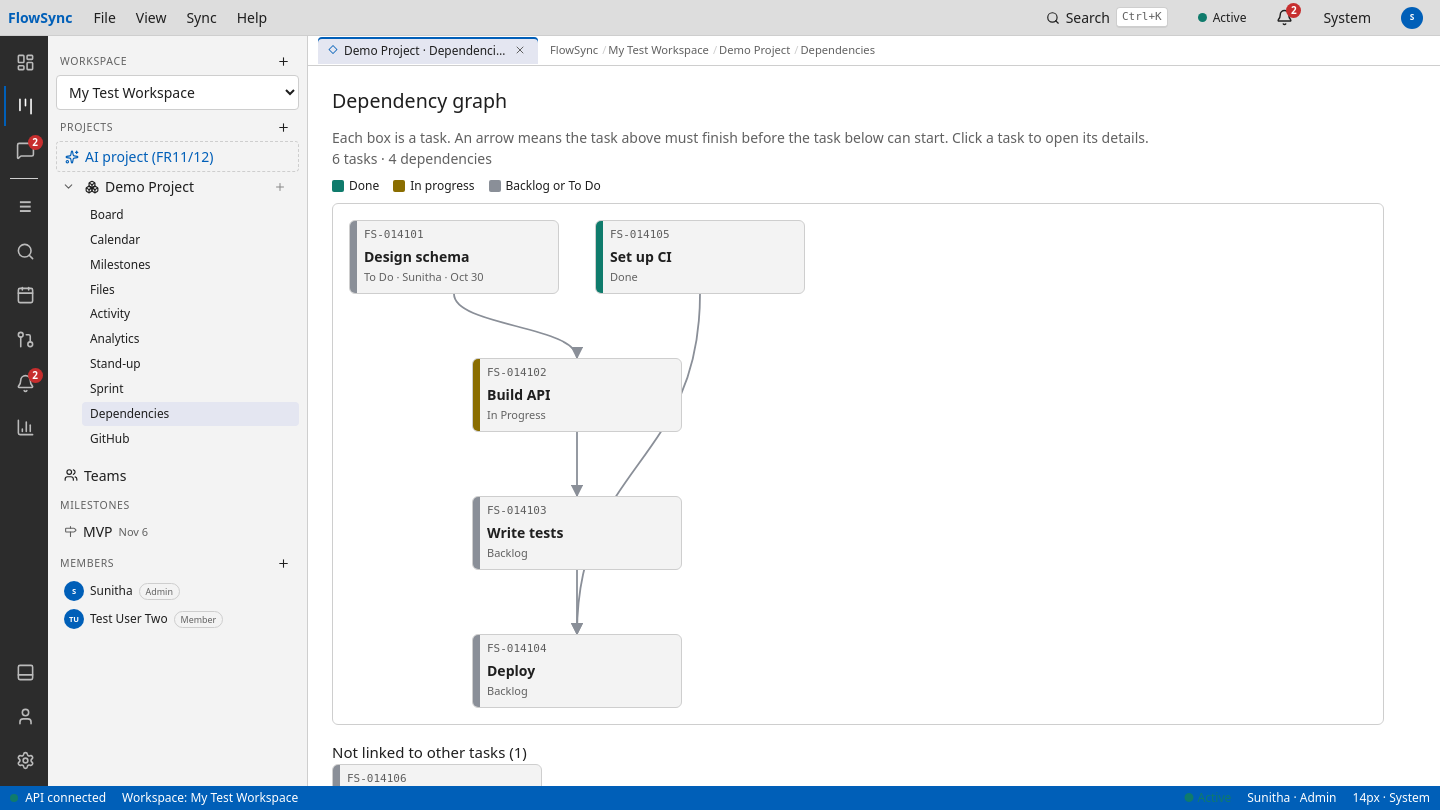
Test: the dependency graph › clicking a box opens that task's details
Click the button "FS-014102 Build API In Progress" at (577, 395), box 472,358 -> 682,432
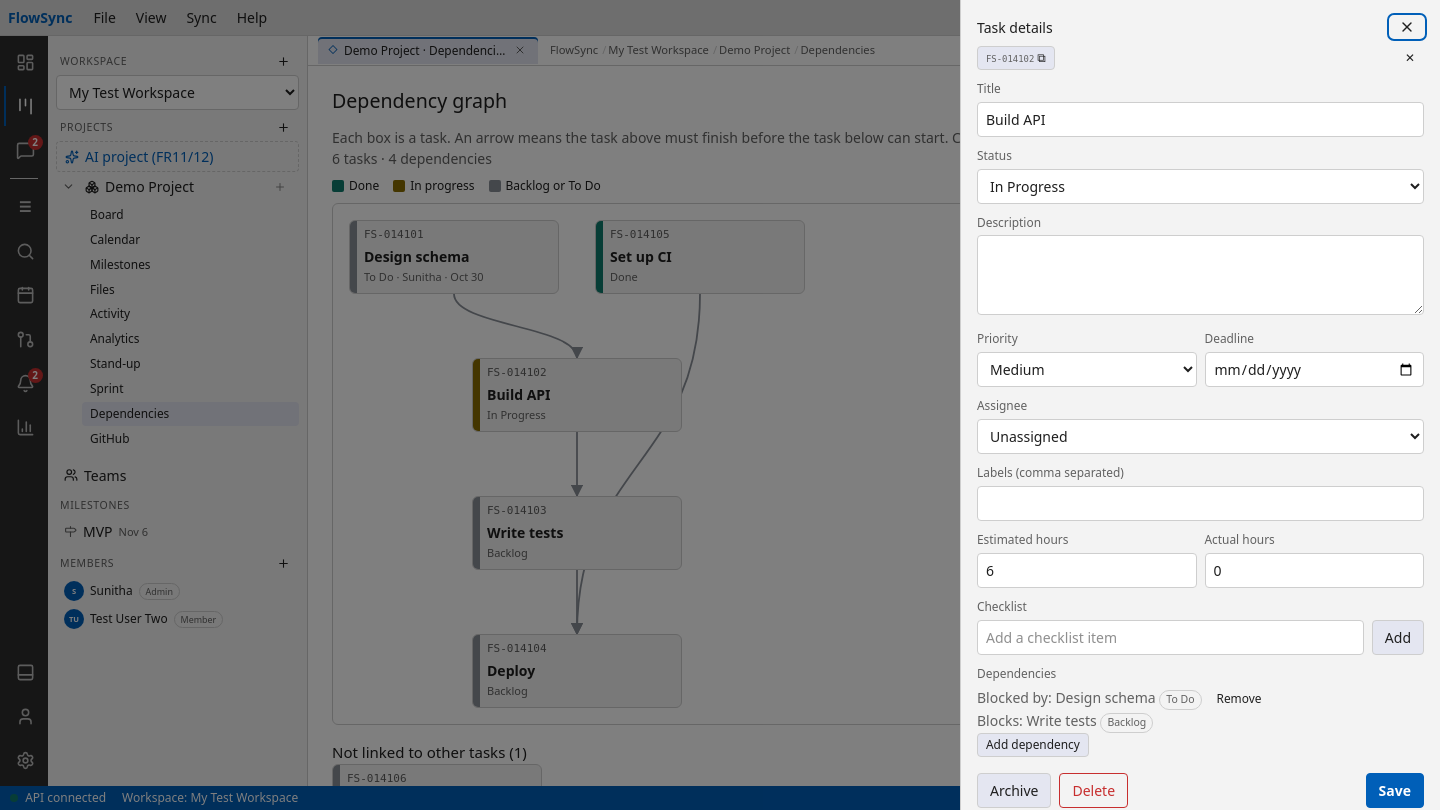
Expected: the field showing "Build API" is shown, 977,102 -> 1424,137
